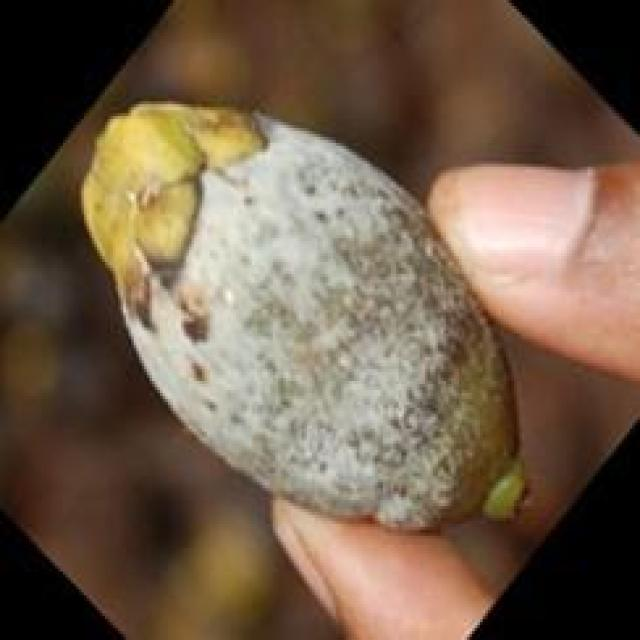damaged: (81, 104, 522, 527)
